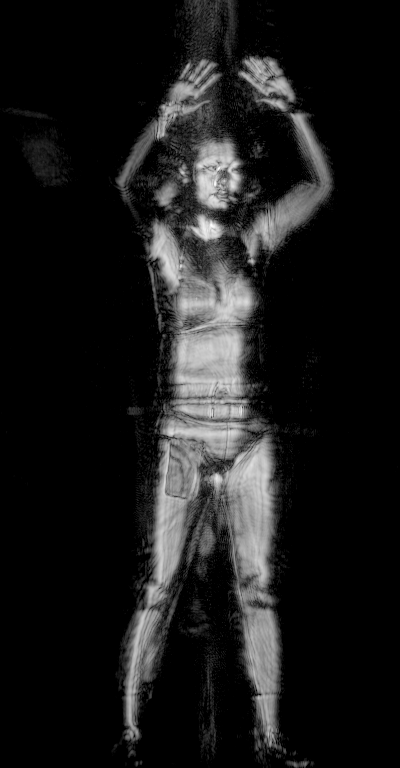head: (177, 132, 247, 217)
others: (163, 430, 201, 502), (154, 97, 186, 142)
person: (111, 50, 334, 768)
